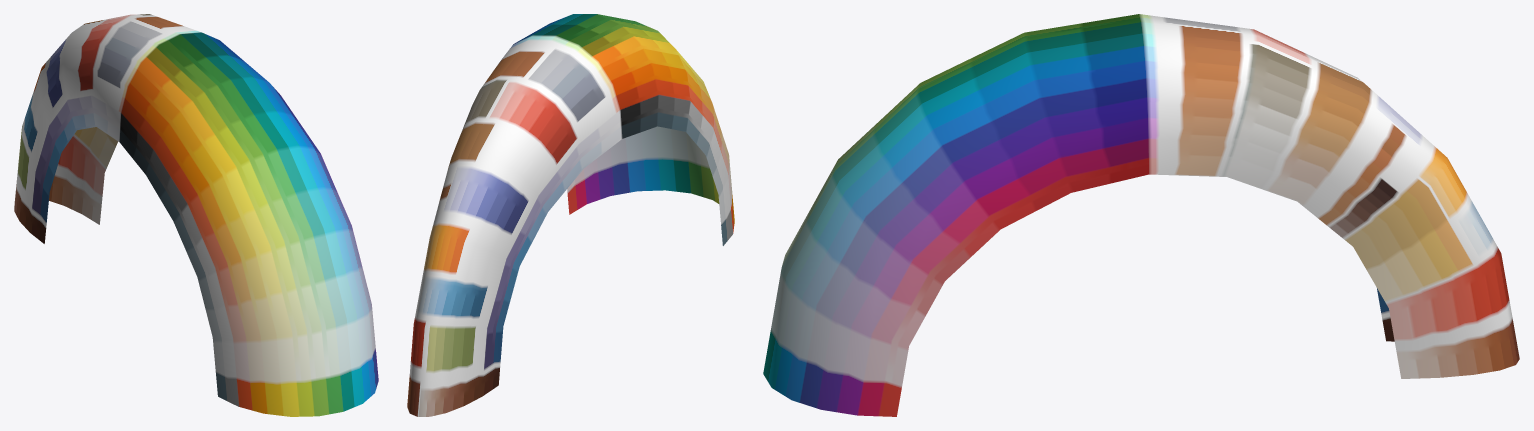
The model's file is fxSlash.fbx.
The picture shows the model from 3 angles, left to right: view 1: azimuth 30°, elevation 25°; view 2: azimuth 150°, elevation 25°; view 3: azimuth 270°, elevation 25°; orthographic projection. The views are drawn at different scales.
Visible parts, largest first — view 1: fxSlash; view 2: fxSlash; view 3: fxSlash.
Boxes of the visible parts, box(x1,y1,x2,y2) form: fxSlash: box(14, 14, 378, 416); fxSlash: box(407, 14, 734, 416); fxSlash: box(763, 14, 1519, 416).
Size of the model in its own units: 126 by 214 by 428.
